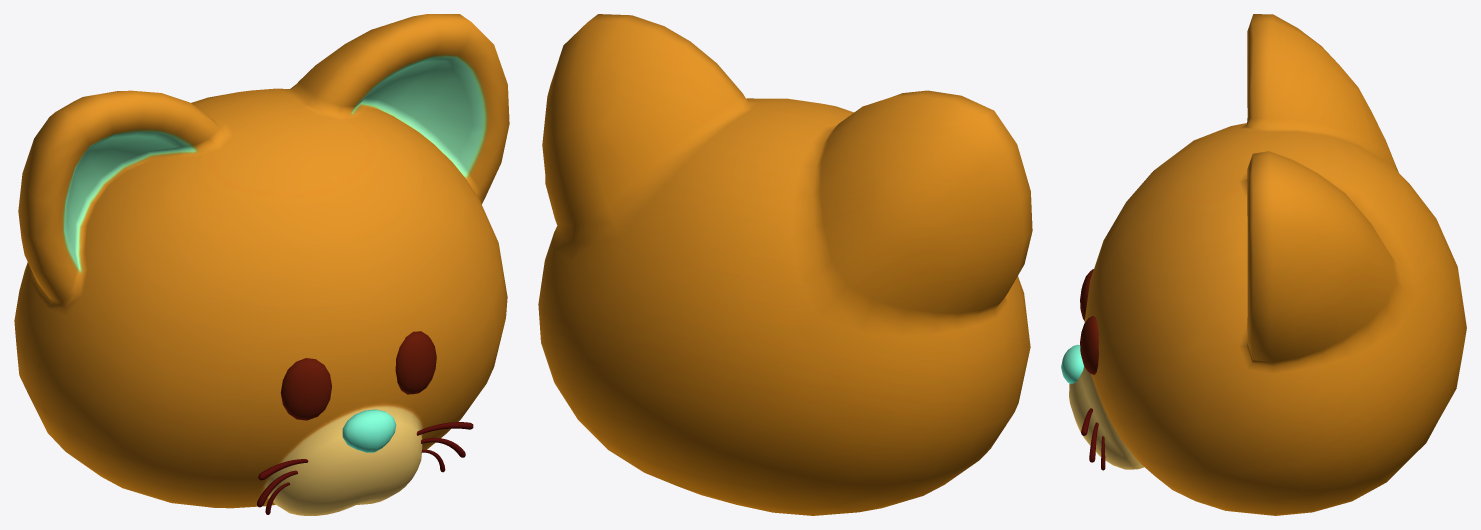
The picture shows the model from 3 angles, left to right: view 1: azimuth 30°, elevation 25°; view 2: azimuth 150°, elevation 25°; view 3: azimuth 270°, elevation 25°; orthographic projection. The views are drawn at different scales.
Visible parts, largest first — view 1: CatHead; view 2: CatHead; view 3: CatHead.
Part boxes in pixels (x1,y1,x2,y2): CatHead: [14, 14, 509, 515]; CatHead: [538, 14, 1032, 515]; CatHead: [1061, 14, 1466, 515].
Bounding box in the file's own units: 0.8515 × 0.7268 × 0.6915.
Materials: 1 (1 with a texture image).
